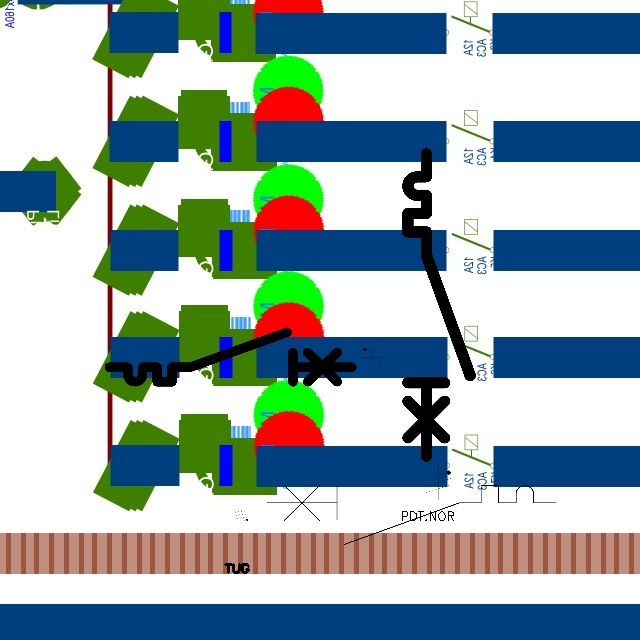interruptor_termomagnetico: (400, 146, 477, 464), (259, 478, 563, 552), (103, 326, 358, 388)
